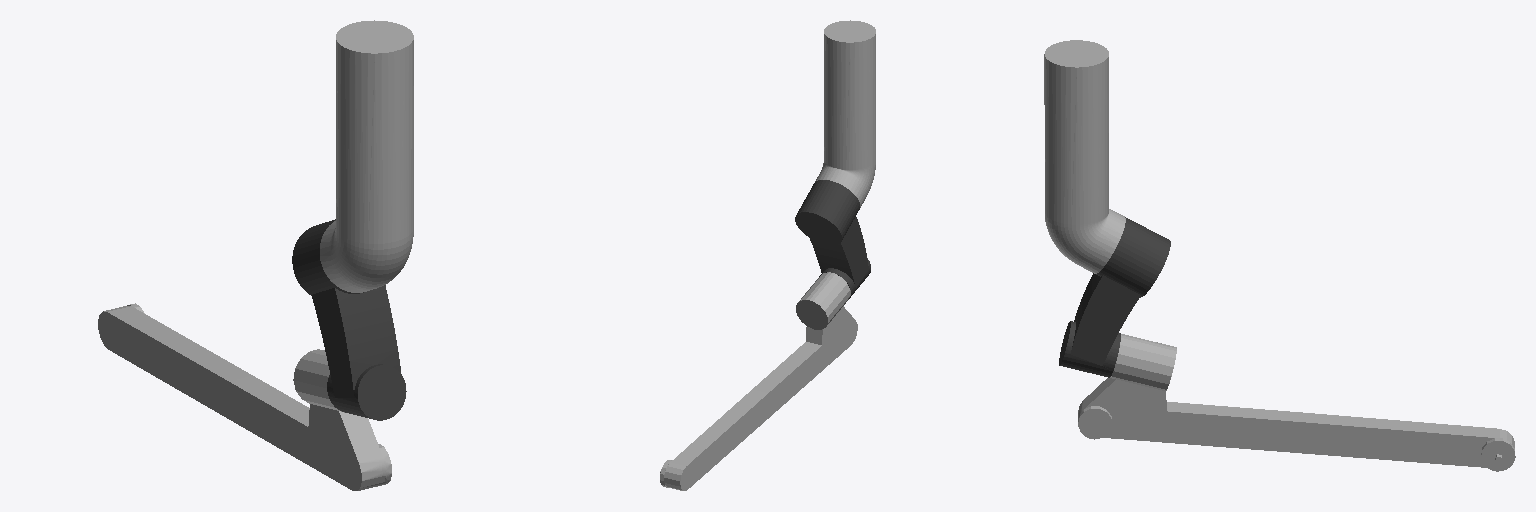
robot.urdf — visual:
<?xml version="1.0"?>
<robot name="visual">
    <material name="blue">
    <color rgba="0 0 0.8 1"/>
  </material>
  <material name="black">
    <color rgba="0.3 0.3 0.3 1"/>
  </material>
  <material name="white">
    <color rgba="1 1 1 1"/>
  </material>
    <material name="light_grey">
        <color rgba="0.7 0.7 0.7 1.0"/>
    </material>

  <link name="graber_4t_link">
    <visual>
        <geometry>
            <mesh filename="package://robot_description/meshes/visual/14_graber_4t.stl" />
        </geometry>
        <origin rpy="-1.5708 -1.5708 0" xyz="0 0 1"/>
        <material name="light_grey"/>
    </visual>
  </link>

  <joint name="4t_r5_joint" type="revolute">
        <parent link="graber_4t_link"/>
        <child link="graber_r5_link"/>
        <origin rpy="-0.52333 0 0" xyz="0 0.0569 0.6348"/>
        <axis xyz="0 1 0"/>
        <limit effort="2.0" lower="-3.14" upper="3.14" velocity="2.0"/>
        <dynamics dmaping="0.0" friction="0.0"/>
  </joint>

  <link name="graber_r5_link">
    <visual>
        <geometry>
            <mesh filename="package://robot_description/meshes/visual/15_graber_r5.stl" />
        </geometry>
        <origin rpy="1.5708 1.5708 0" xyz="0 0 0"/>
        <material name="black"/>
    </visual>
  </link>

  <joint name="r5_r67_joint" type="revolute">
        <parent link="graber_r5_link"/>
        <child link="graber_r67_link"/>
        <origin rpy="0.2616 0 0" xyz="0 0.11338 -0.17756"/>
         <axis xyz="0 1 0"/>
        <limit effort="2.0" lower="-3.14" upper="3.14" velocity="2.0"/>
        <dynamics dmaping="0.0" friction="0.0"/>
  </joint>

      <link name="graber_r67_link">
    <visual>
        <geometry>
            <mesh filename="package://robot_description/meshes/visual/16_graber_r67_affine.stl" />
        </geometry>
        <origin rpy="0 0 3.14" xyz="0 0 0"/>
        <material name="light_grey"/>
    </visual>
  </link>

<joint name="r67_r8_joint" type="revolute">
        <parent link="graber_r67_link"/>
        <child link="graber_r8_link"/>
        <origin rpy="0 0 0" xyz="0.0 0.68677 0.0"/>
         <axis xyz="1 0 0"/>
        <limit effort="2.0" lower="-3.14" upper="3.14" velocity="2.0"/>
        <dynamics dmaping="0.0" friction="0.0"/>
  </joint>

    <link name="graber_r8_link">
    <visual>
        <geometry>
            <box size="0.01 0.01 0.01"/>
        </geometry>
        <origin rpy="0 0 0" xyz="0.04 0 0"/>
        <material name="light_grey"/>
    </visual>
  </link>
<link name="tool0"/>
  <joint name="link_r8-tool0" type="fixed">
    <origin rpy="0 0 0" xyz="0 0 0"/>
    <parent link="graber_r8_link"/>
    <child link="tool0"/>
  </joint>

</robot>

--- Render facts (derived) ---
3 views of the same robot in one strip: view 1: azimuth 30°, elevation 25°; view 2: azimuth 150°, elevation 25°; view 3: azimuth 270°, elevation 25° (orthographic).
Robot: visual — 5 links, 4 joints (3 revolute, 1 fixed); root link graber_4t_link; default pose: all joints at 0.
Links seen in each view (by area): view 1: graber_4t_link, graber_r67_link, graber_r5_link; view 2: graber_r67_link, graber_4t_link, graber_r5_link; view 3: graber_r67_link, graber_4t_link, graber_r5_link.
Link boxes in pixels (box(x1,y1,x2,y2)): graber_4t_link: box(320, 20, 413, 292); graber_r67_link: box(98, 303, 391, 490); graber_r5_link: box(292, 219, 406, 420); graber_r67_link: box(660, 272, 857, 490); graber_4t_link: box(815, 20, 875, 207); graber_r5_link: box(795, 180, 870, 298); graber_r67_link: box(1078, 334, 1515, 471); graber_4t_link: box(1044, 40, 1125, 273); graber_r5_link: box(1059, 217, 1170, 377).
Bounding box of the posed robot: 0.112 × 0.8148 × 0.7831 m (x, y, z).
3 mesh visuals loaded from 3 distinct referenced files (3 binary STL).
